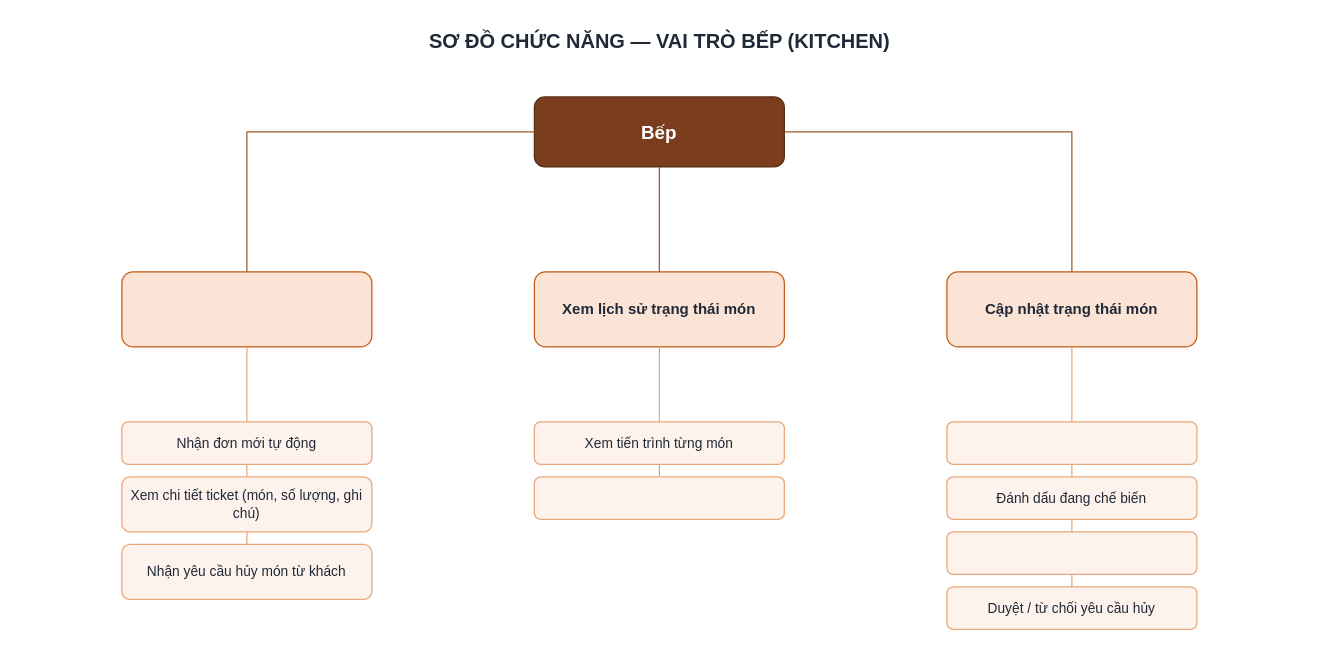
The diagram is 1318 pixels wide and 651 high, and some of its shapes have lost their labels. Here are the shapes that lost their labels. From the top down, the box of each, then its label:
(121, 271, 372, 347): Nhận ticket realtime
(946, 421, 1197, 464): Xác nhận đơn (đã tiếp nhận)
(533, 476, 784, 519): Lọc theo trạng thái / bàn
(946, 531, 1197, 574): Đánh dấu món sẵn sàng
